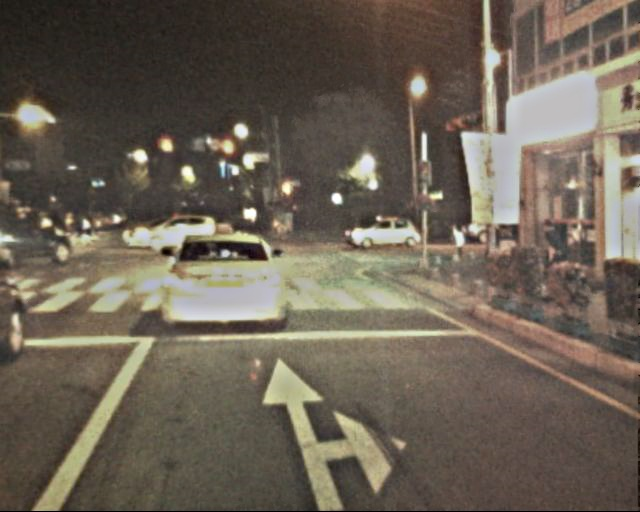person: (539, 218, 565, 292), (451, 218, 472, 266)
